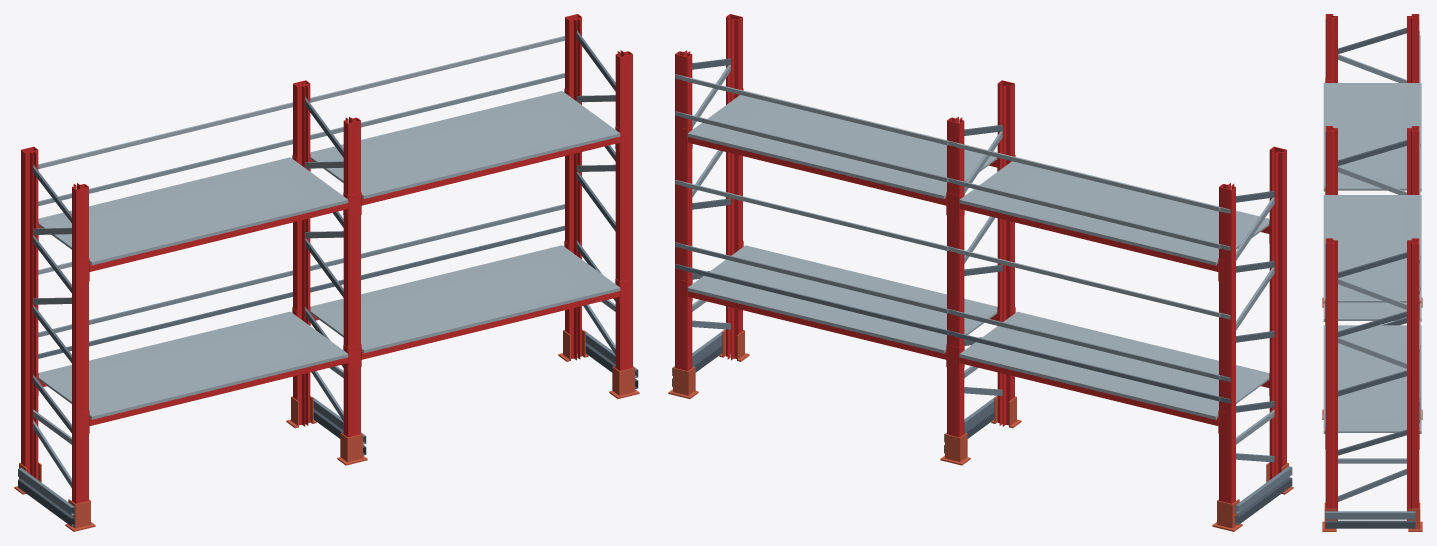
File: SM_ShelfEmptyx2_Red_B.fbx
The picture shows the model from 3 angles, left to right: view 1: azimuth 30°, elevation 25°; view 2: azimuth 150°, elevation 25°; view 3: azimuth 270°, elevation 25°; orthographic projection. The views are drawn at different scales.
Visible parts, largest first — view 1: SM_ShelfEmptyx2_Red_B; view 2: SM_ShelfEmptyx2_Red_B; view 3: SM_ShelfEmptyx2_Red_B.
Part boxes in pixels (box(x1,y1,x2,y2)): SM_ShelfEmptyx2_Red_B: box(14, 14, 639, 531); SM_ShelfEmptyx2_Red_B: box(668, 14, 1293, 531); SM_ShelfEmptyx2_Red_B: box(1322, 14, 1422, 531).
Size of the model in its own units: 646 by 370 by 118.
